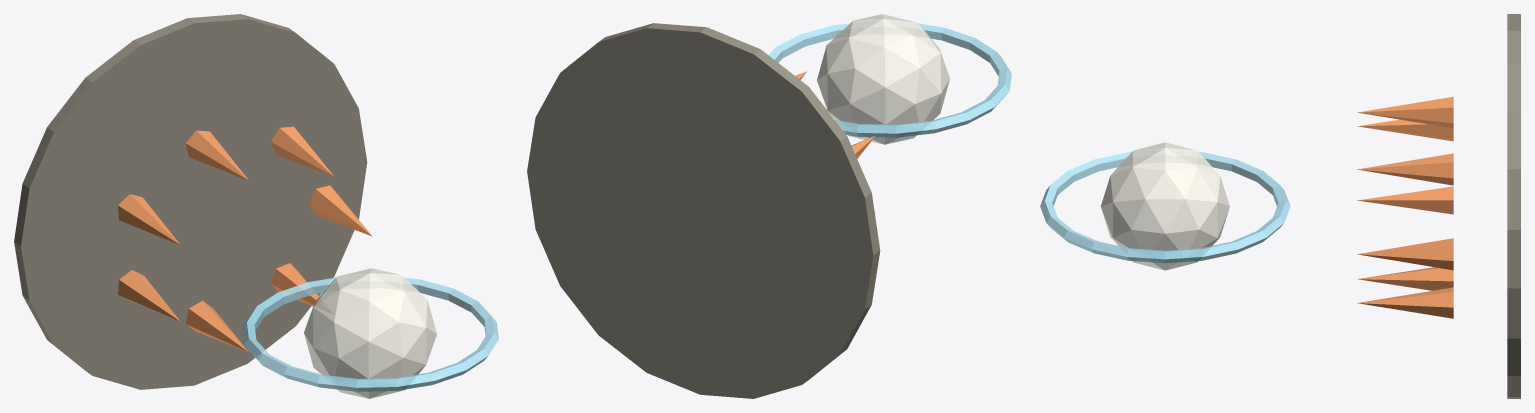
The model's file is 06_weather_terrain_nature_module.glb.
The picture shows the model from 3 angles, left to right: view 1: azimuth 30°, elevation 25°; view 2: azimuth 150°, elevation 25°; view 3: azimuth 270°, elevation 25°; orthographic projection. The views are drawn at different scales.
Visible parts, largest first — view 1: terrain_patch, sun_color_preview, weather_halo, nature_or_weather_element_2, nature_or_weather_element_1, nature_or_weather_element_0, nature_or_weather_element_3, nature_or_weather_element_5, nature_or_weather_element_4, nature_or_weather_element_6; view 2: terrain_patch, sun_color_preview, weather_halo; view 3: sun_color_preview, weather_halo, terrain_patch, nature_or_weather_element_0, nature_or_weather_element_1, nature_or_weather_element_2, nature_or_weather_element_6, nature_or_weather_element_4, nature_or_weather_element_5, nature_or_weather_element_3.
Part boxes in pixels (bbox=[...]): terrain_patch: bbox=[14, 14, 367, 389]; sun_color_preview: bbox=[304, 268, 436, 398]; weather_halo: bbox=[242, 277, 498, 391]; nature_or_weather_element_2: bbox=[185, 130, 248, 180]; nature_or_weather_element_1: bbox=[271, 126, 334, 176]; nature_or_weather_element_0: bbox=[308, 185, 372, 236]; nature_or_weather_element_3: bbox=[118, 194, 180, 244]; nature_or_weather_element_5: bbox=[185, 300, 248, 352]; nature_or_weather_element_4: bbox=[118, 270, 180, 321]; nature_or_weather_element_6: bbox=[271, 263, 319, 306]; terrain_patch: bbox=[527, 23, 880, 398]; sun_color_preview: bbox=[817, 14, 949, 144]; weather_halo: bbox=[768, 23, 1011, 137]; sun_color_preview: bbox=[1100, 142, 1229, 270]; weather_halo: bbox=[1040, 152, 1290, 263]; terrain_patch: bbox=[1507, 14, 1520, 398]; nature_or_weather_element_0: bbox=[1357, 238, 1453, 270]; nature_or_weather_element_1: bbox=[1357, 153, 1453, 185]; nature_or_weather_element_2: bbox=[1357, 96, 1453, 128]; nature_or_weather_element_6: bbox=[1357, 287, 1453, 318]; nature_or_weather_element_4: bbox=[1357, 186, 1453, 214]; nature_or_weather_element_5: bbox=[1357, 267, 1453, 290]; nature_or_weather_element_3: bbox=[1357, 119, 1453, 141].
Bounding box in the file's own units: 1.44 × 1.44 × 1.78.
